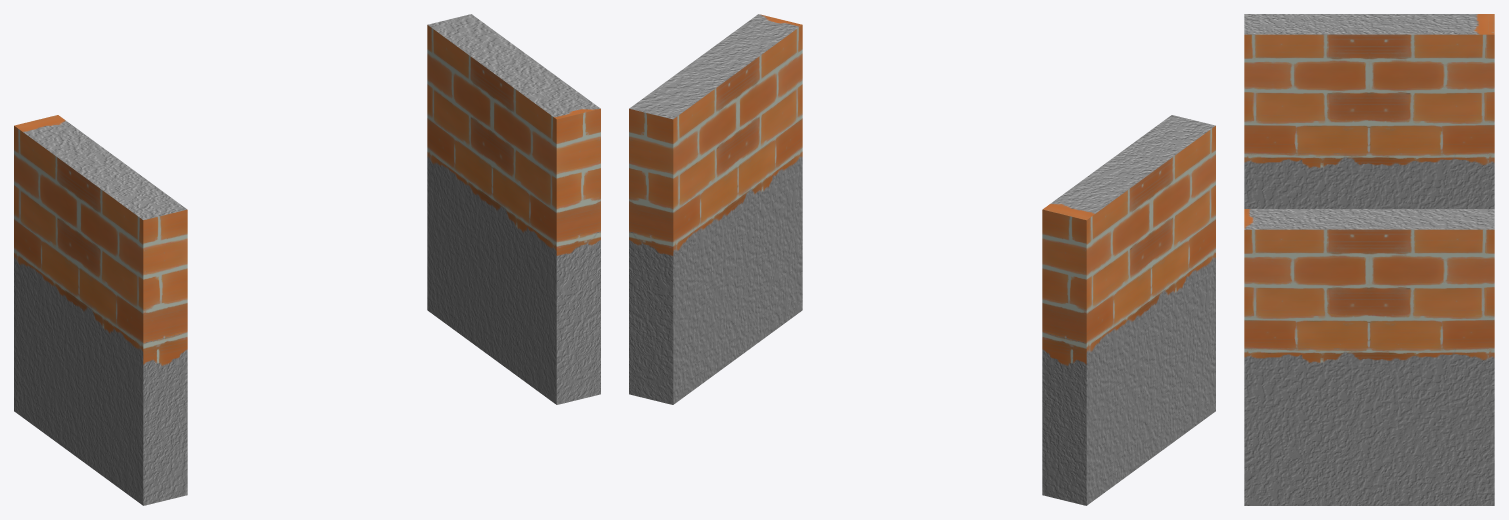
The model's file is Stone_Sink_Support_03.fbx.
3 renders of one model, left to right at view 1: azimuth 30°, elevation 25°; view 2: azimuth 150°, elevation 25°; view 3: azimuth 270°, elevation 25°, orthographic. The views are drawn at different scales.
Visible parts, largest first — view 1: Stone_Sink_Support_03; view 2: Stone_Sink_Support_03; view 3: Stone_Sink_Support_03.
Boxes of the visible parts, left/top/right/bottom form: Stone_Sink_Support_03: left=14, top=14, right=600, bottom=505; Stone_Sink_Support_03: left=629, top=14, right=1215, bottom=505; Stone_Sink_Support_03: left=1244, top=14, right=1494, bottom=505.
Bounding box in the file's own units: 158 × 94 × 77.17.
